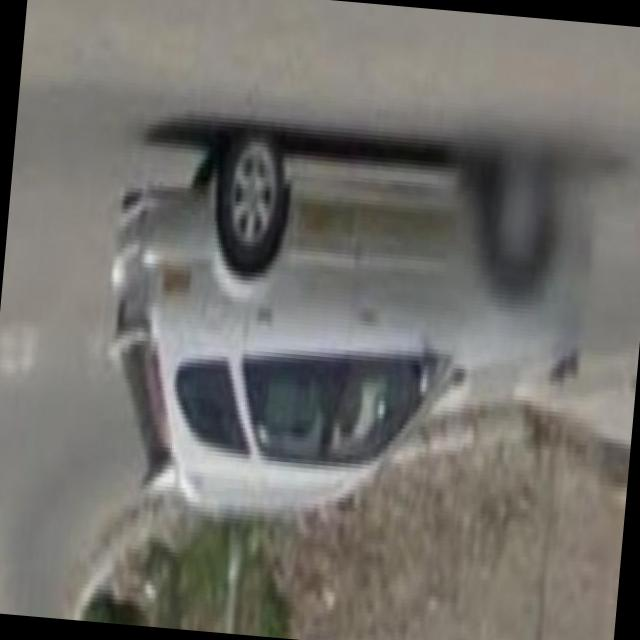car: (88, 115, 590, 492)
